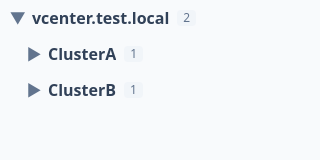
InventoryTree (INV-01 — flatten-visible + lazy children) › lazy children: a collapsed cluster does NOT materialise its hosts; expand → appear; collapse → gone
The image size is (320, 160).
Check: the text "esx-a1" is not shown
Click the button named "ClusterA": click(34, 54) [24,44,44,64]
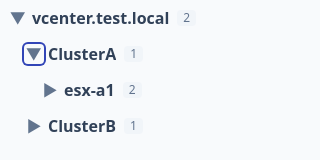
Check: the text "esx-a1" is shown, box [64,78,115,102]
# Collapse again — hosts gone from the flat array.
Click the button named "ClusterA": click(34, 54) [24,44,44,64]
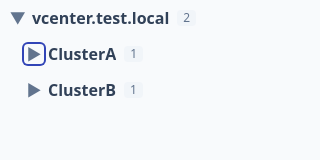
Check: the button "esx-a1" is gone
